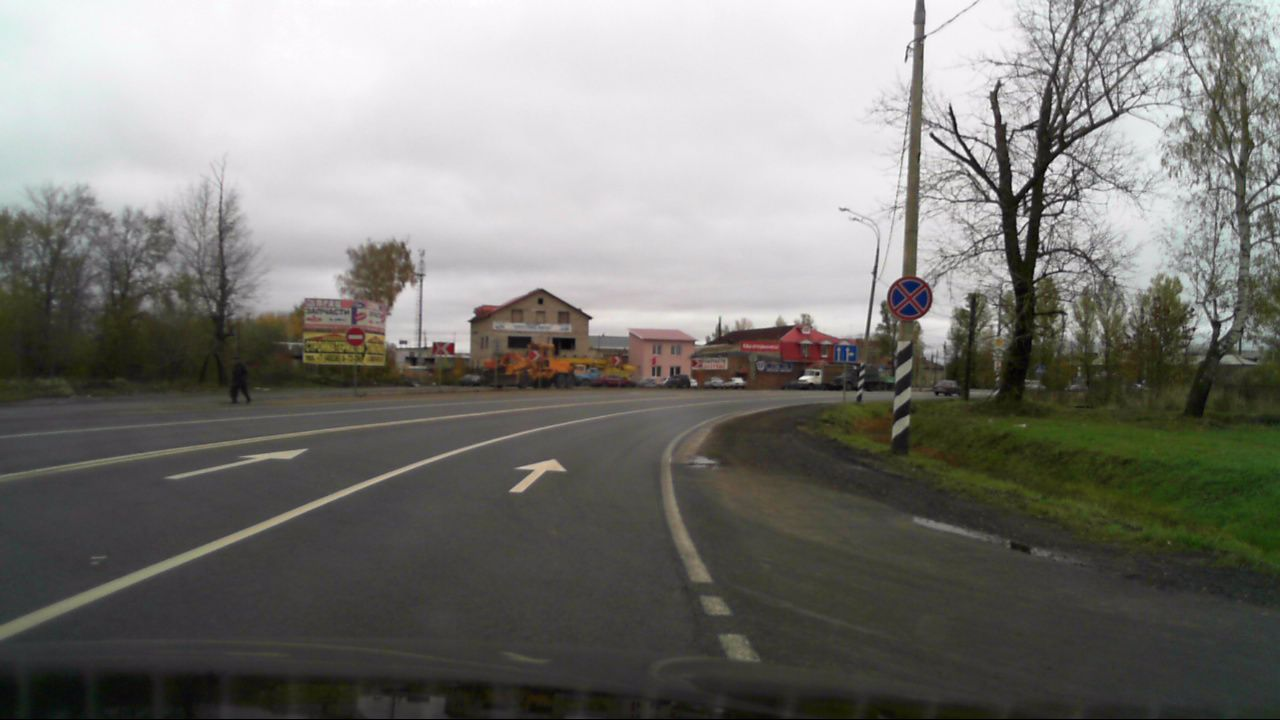No Parking: (887, 275, 932, 320)
